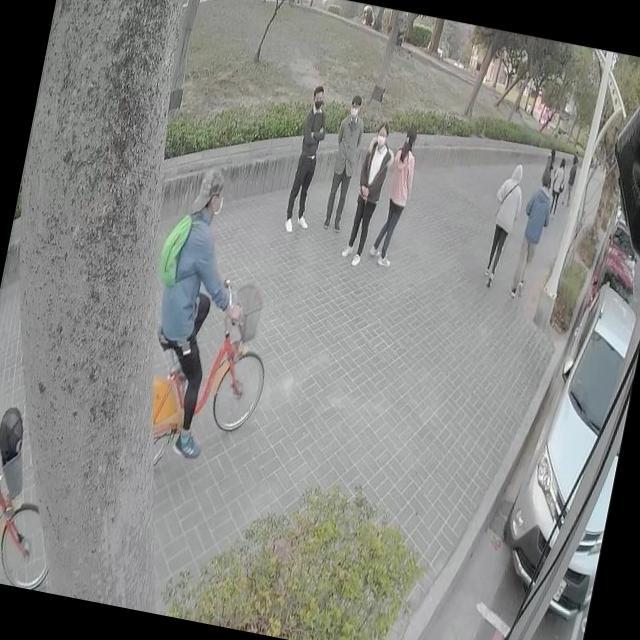person: (121, 150, 276, 471), (336, 112, 402, 277), (284, 84, 334, 234), (320, 90, 369, 234), (372, 128, 421, 268), (478, 160, 530, 291), (509, 171, 556, 298), (547, 158, 568, 218), (538, 145, 558, 191)
